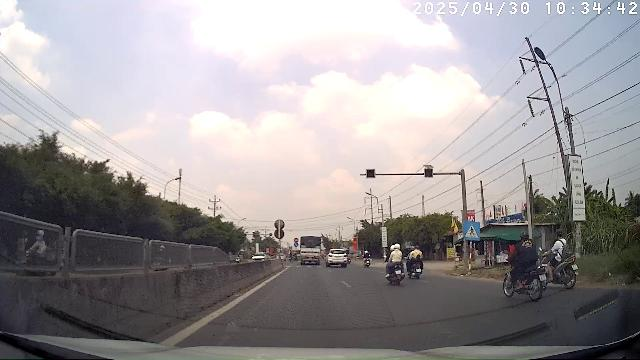423a-duong-nguoi-di-bo-sang-ngang-1: (463, 221, 479, 240)
